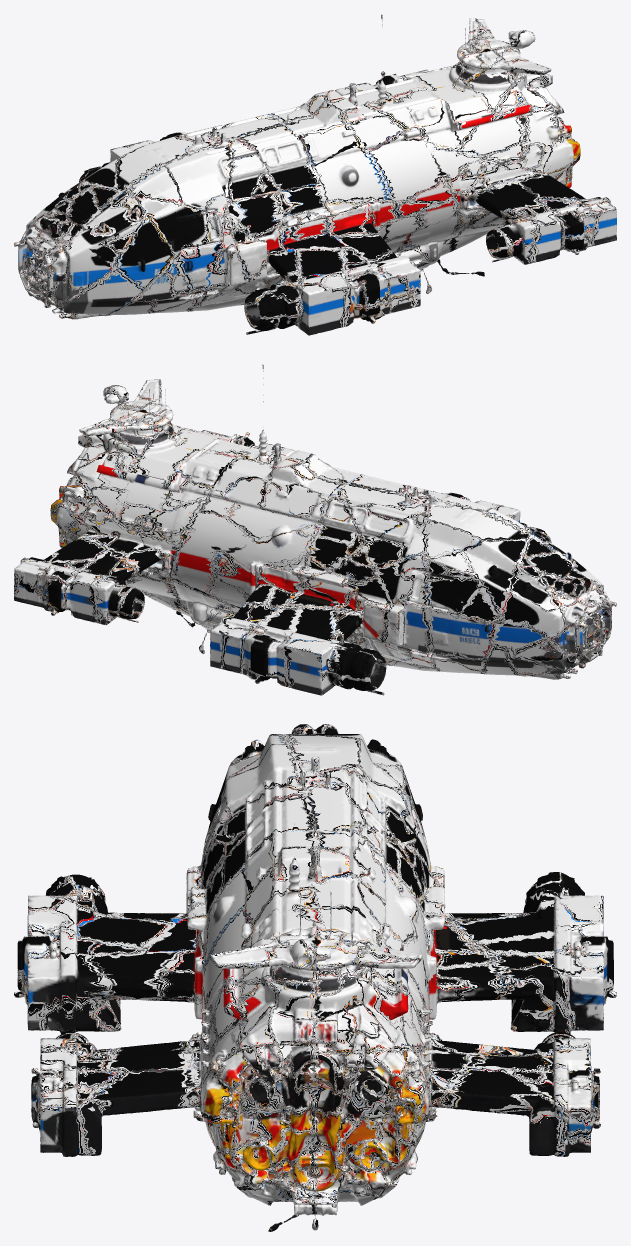
File: Rescue Shuttle _lod0.glb
The picture shows the model from 3 angles, top to bottom: view 1: azimuth 30°, elevation 25°; view 2: azimuth 150°, elevation 25°; view 3: azimuth 270°, elevation 25°; orthographic projection. The views are drawn at different scales.
Visible parts, largest first — view 1: mesh; view 2: mesh; view 3: mesh.
Part boxes in pixels (x1,y1,x2,y2): mesh: [14, 14, 616, 335]; mesh: [14, 364, 616, 695]; mesh: [14, 724, 616, 1231].
Size of the model in its own units: 1.9 by 1.04 by 1.32.
1 material, 1 textured.
